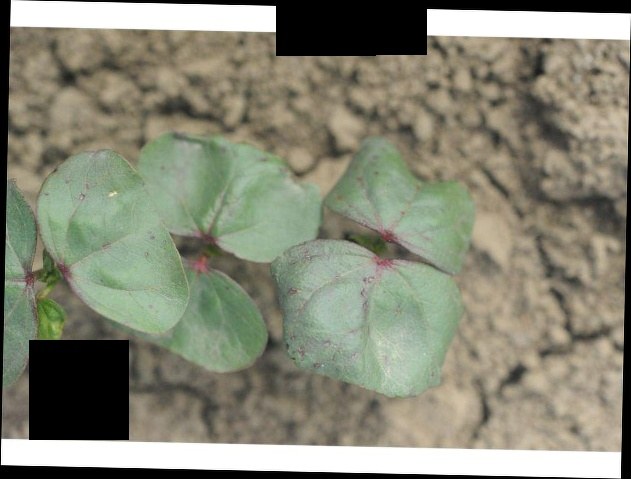cotton: (5, 131, 475, 394)
